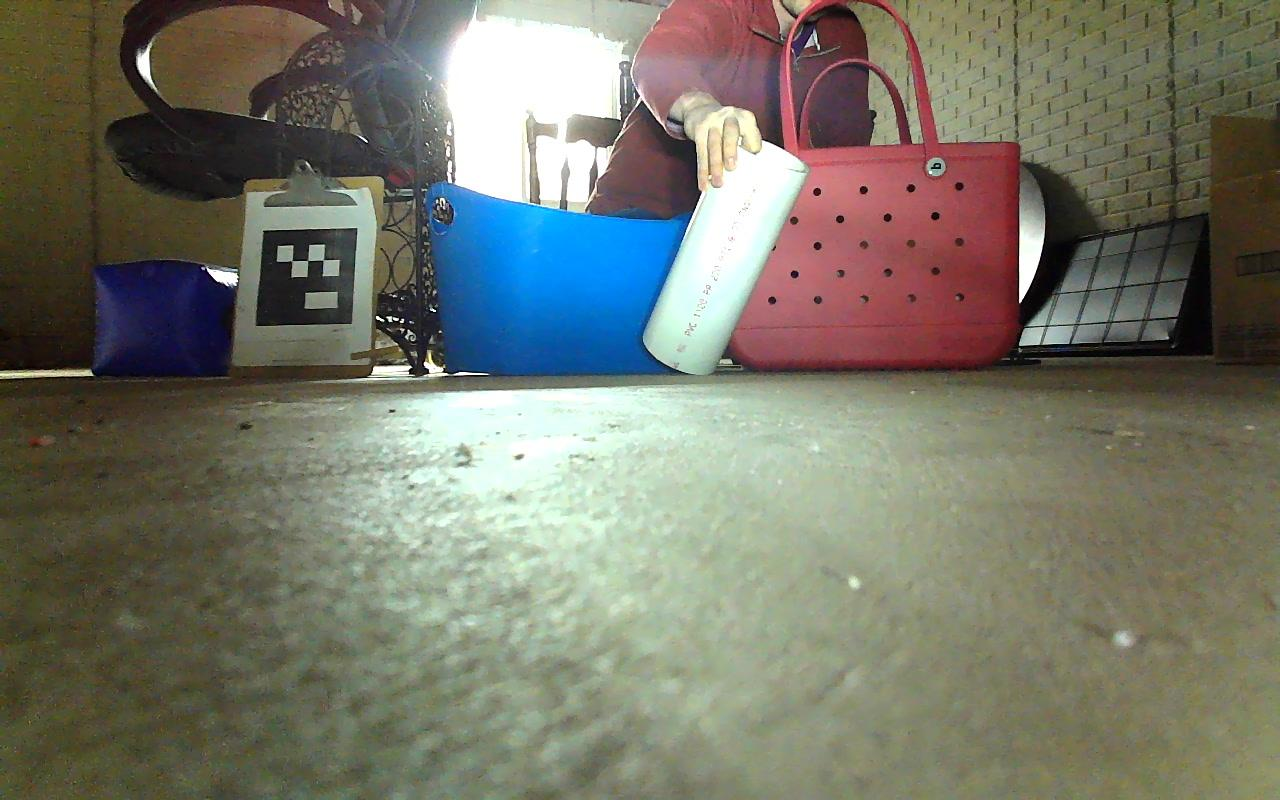coral: (642, 132, 811, 377)
